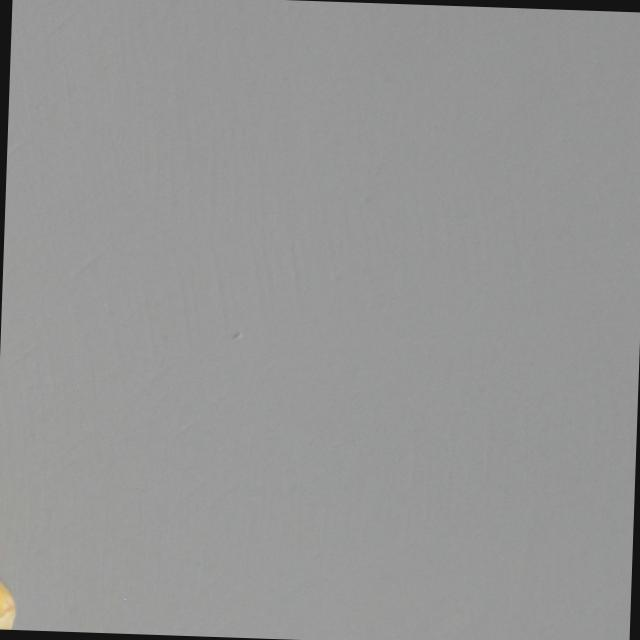entero: (0, 556, 18, 630)
